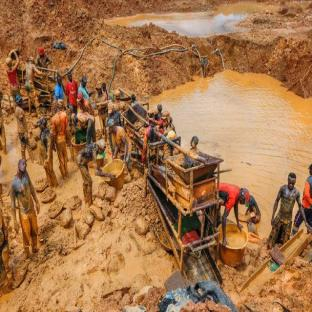ProcessingEquipment: (143, 148, 224, 252)
